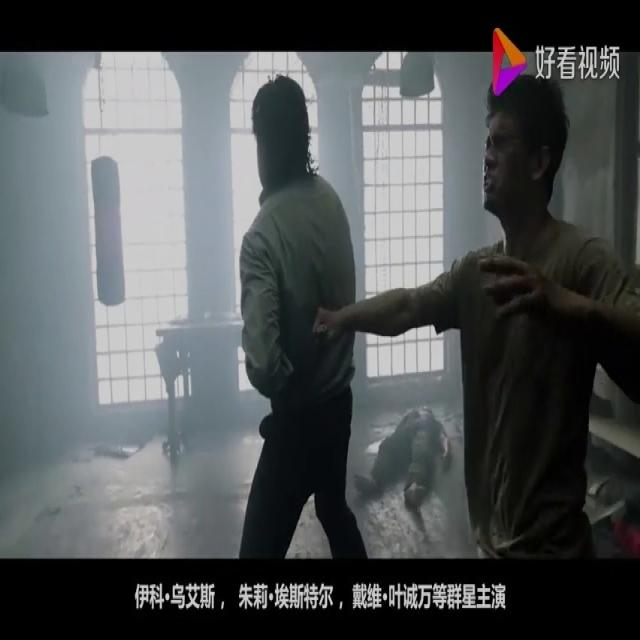fight: (223, 52, 639, 561)
